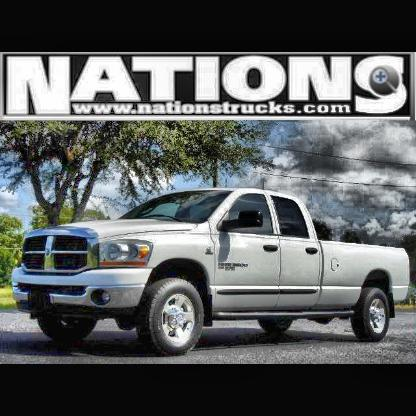Dodge Ram Pickup 3500 Quad Cab 2009: (13, 187, 411, 356)
